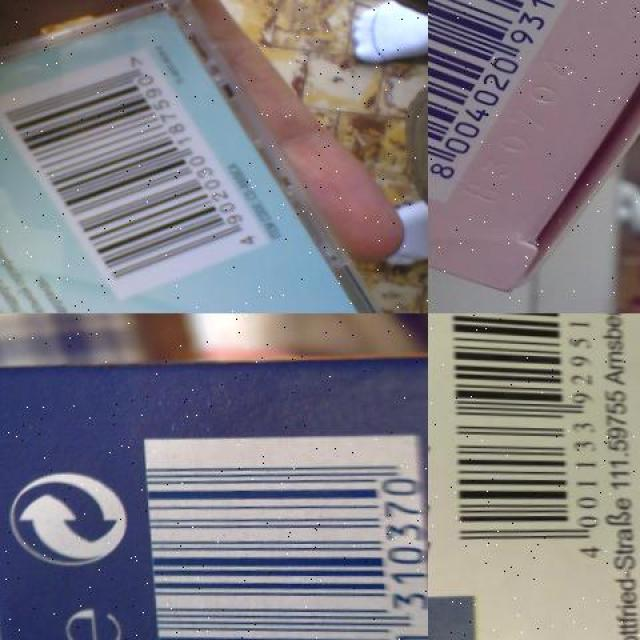Barcode: (0, 43, 267, 301), (138, 426, 428, 640), (428, 313, 603, 567), (428, 0, 624, 208)
